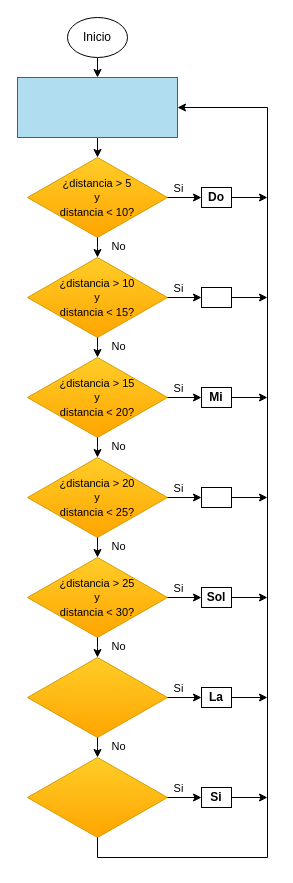
Image size: 293x883. Some labels were removed from this diagram. Each missing label, with the box of its shape:
Fa: (200, 486, 232, 508)
Leer la distancia con el sensor de ultrasonidos y asignarla a una variable: (16, 76, 178, 138)
Re: (200, 286, 232, 308)
¿distancia > 30 y distancia < 35?: (26, 656, 168, 738)
¿distancia > 35 y distancia < 40?: (26, 756, 168, 838)
